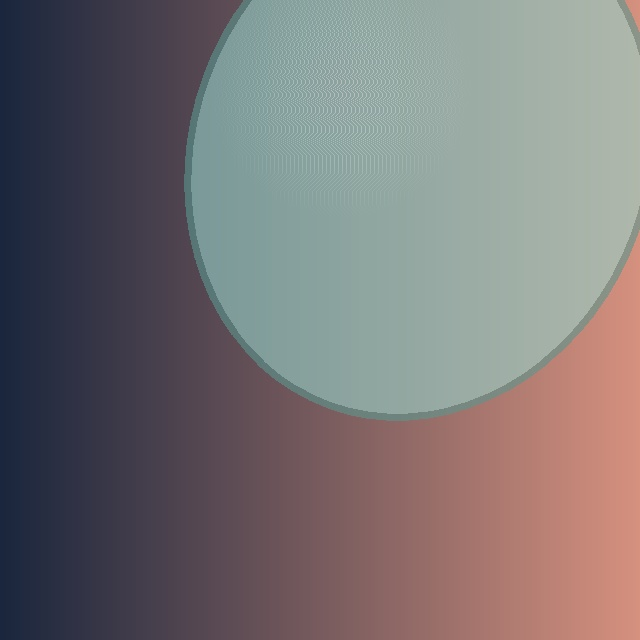lens: (189, 0, 640, 417)
